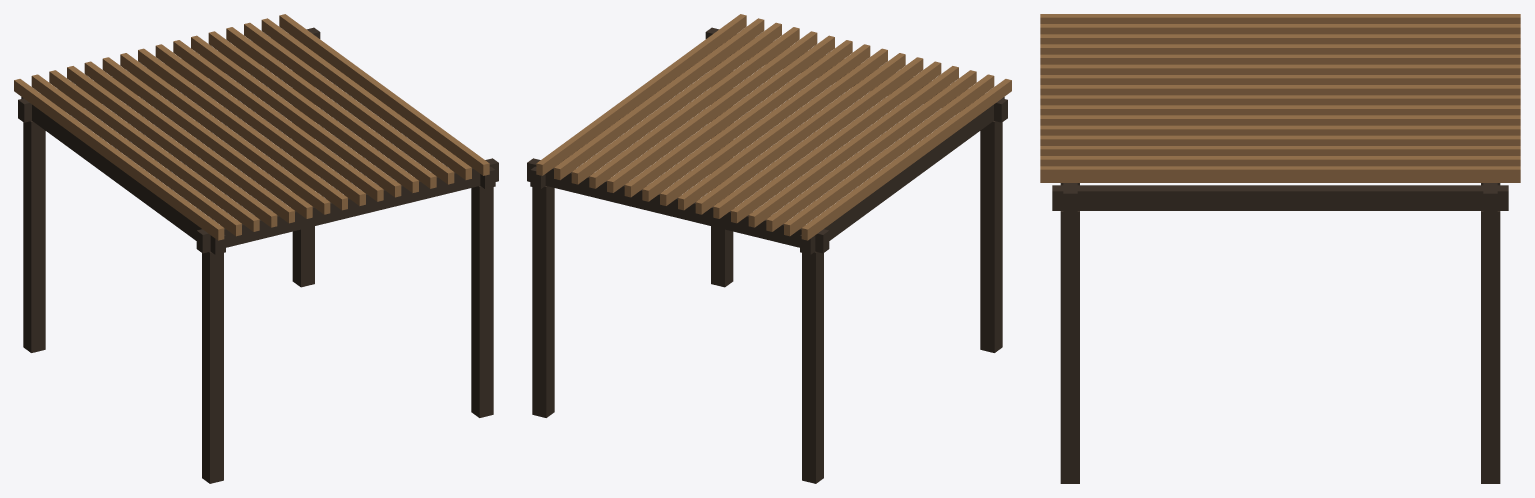
The model's file is pergola.glb.
The picture shows the model from 3 angles, left to right: view 1: azimuth 30°, elevation 25°; view 2: azimuth 150°, elevation 25°; view 3: azimuth 270°, elevation 25°; orthographic projection. The views are drawn at different scales.
Visible parts, largest first — view 1: pergola:trim; view 2: pergola:trim; view 3: pergola:trim.
Boxes of the visible parts, x1=… form: pergola:trim: x1=14, y1=14, x2=498, y2=483; pergola:trim: x1=527, y1=14, x2=1011, y2=483; pergola:trim: x1=1040, y1=14, x2=1520, y2=483.
Size of the model in its own units: 3.35 by 2.82 by 4.
